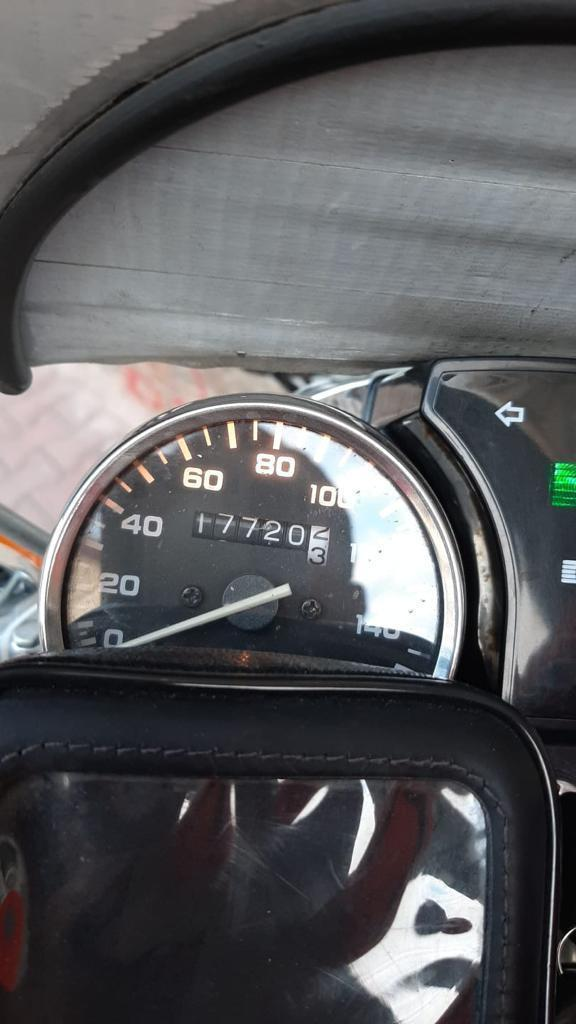0: (286, 523, 305, 546)
1: (195, 511, 207, 534)
2: (262, 519, 281, 542), (311, 524, 330, 541)
3: (308, 546, 326, 565)
7: (216, 512, 235, 534), (240, 515, 257, 539)
odometer: (186, 507, 335, 573)
